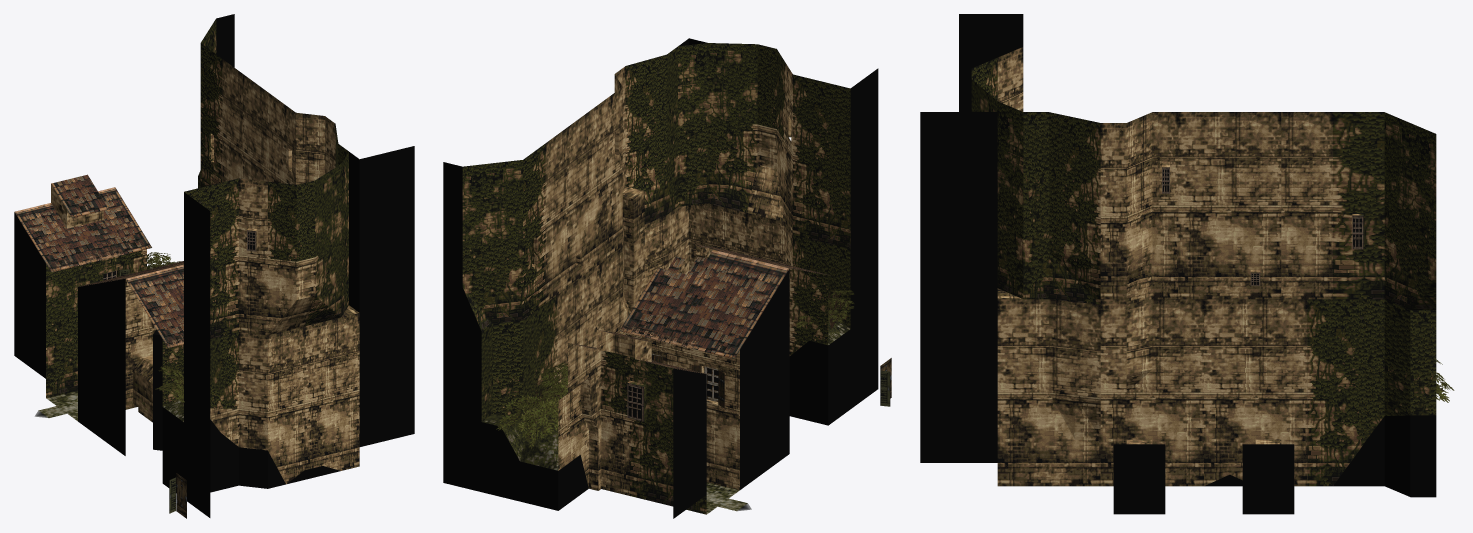
Rendered from MAP159.obj.
The picture shows the model from 3 angles, left to right: view 1: azimuth 30°, elevation 25°; view 2: azimuth 150°, elevation 25°; view 3: azimuth 270°, elevation 25°; orthographic projection. The views are drawn at different scales.
Visible parts, largest first — view 1: mesh_17, mesh_77, mesh_73, mesh_66, mesh_74, mesh_16, mesh_19, mesh_57, mesh_23, mesh_22, mesh_65, mesh_82 (+21 smaller); view 2: mesh_73, mesh_65, mesh_66, mesh_82, mesh_68, mesh_20, mesh_16, mesh_19, mesh_69, mesh_21, mesh_67, mesh_58 (+26 smaller); view 3: mesh_68, mesh_66, mesh_65, mesh_25, mesh_69, mesh_39, mesh_21, mesh_67, mesh_71, mesh_16, mesh_80, mesh_81 (+6 smaller).
Part boxes in pixels (x1,y1,x2,y2): mesh_17: (349,146,414,446); mesh_77: (210,313,359,467); mesh_73: (184,178,341,374); mesh_66: (222,59,335,184); mesh_74: (239,178,359,484); mesh_16: (184,192,210,517); mesh_19: (78,279,125,455); mesh_57: (14,174,146,263); mesh_23: (162,407,285,492); mesh_22: (14,212,45,378); mesh_65: (198,43,348,187); mesh_82: (80,261,183,339); mesh_73: (708,44,850,270); mesh_65: (462,46,677,421); mesh_66: (545,66,683,374); mesh_82: (625,243,826,349); mesh_68: (556,146,688,403); mesh_20: (443,162,481,491); mesh_16: (850,68,878,408); mesh_19: (740,269,789,489); mesh_69: (481,127,677,429); mesh_21: (481,422,588,510); mesh_67: (462,160,522,246); mesh_58: (559,330,651,495); mesh_68: (997,205,1307,462); mesh_66: (997,112,1332,486); mesh_65: (1023,112,1436,486); mesh_25: (920,112,997,462); mesh_69: (1023,205,1436,462); mesh_39: (1113,444,1294,514); mesh_21: (1333,415,1436,497); mesh_67: (1384,112,1436,227); mesh_71: (1075,252,1152,438); mesh_16: (959,14,1023,111); mesh_80: (997,101,1023,205); mesh_81: (997,195,1023,298).
Size of the model in its own units: 173 by 211 by 267.
19 materials, 19 textured.
